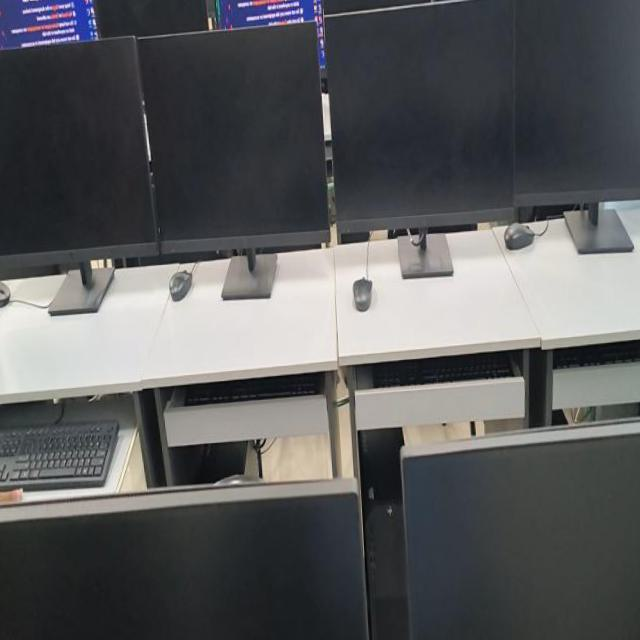Cpu: (247, 415, 289, 622), (386, 417, 441, 449)
Digital board: (519, 0, 548, 13)
Keyboard: (514, 391, 640, 444), (139, 359, 273, 380), (320, 364, 459, 383), (0, 355, 102, 373)
Monitor: (291, 454, 640, 639), (0, 424, 258, 639), (121, 60, 301, 291), (469, 74, 640, 300), (307, 72, 477, 297), (0, 50, 130, 281), (302, 4, 404, 111), (81, 0, 194, 62), (410, 11, 519, 74), (198, 0, 302, 66), (514, 16, 622, 76), (375, 0, 449, 62), (450, 0, 519, 15), (305, 0, 375, 9), (230, 0, 301, 8)
Mouse: (609, 268, 637, 291), (114, 251, 142, 273), (438, 271, 460, 296), (269, 287, 287, 315)
